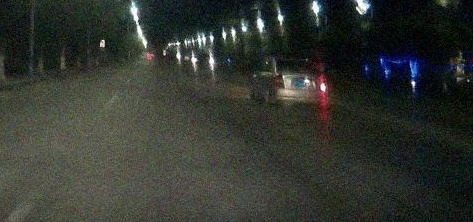L_light: (273, 74, 285, 89)
R_light: (317, 77, 327, 91)
T_light: (292, 59, 304, 62)
night-right: (271, 56, 328, 107)
